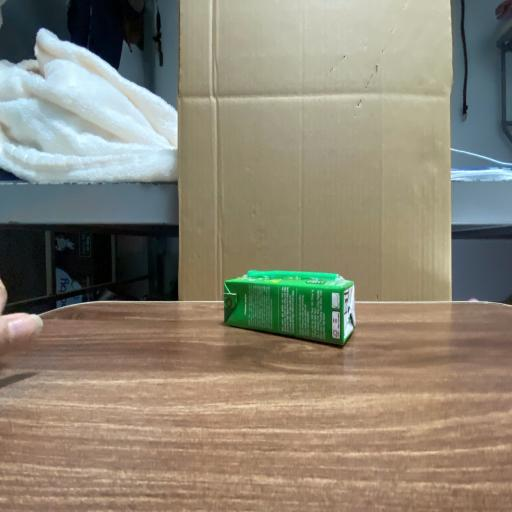milo: (224, 270, 357, 345)
